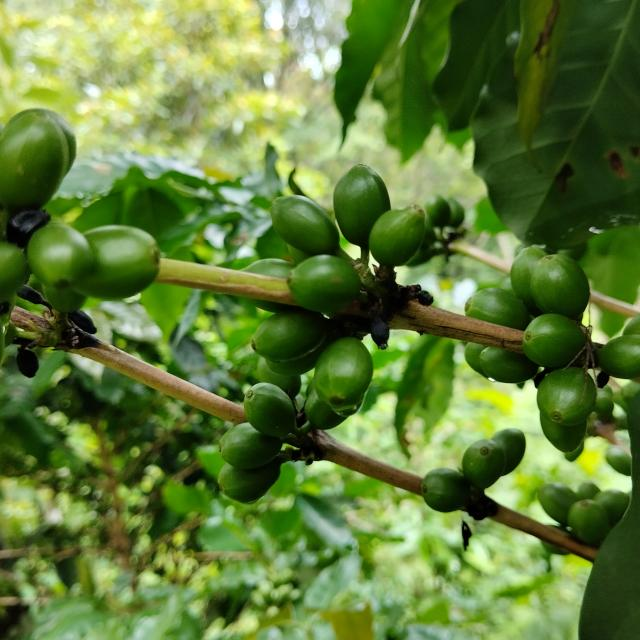Unripe: (73, 225, 159, 299), (251, 308, 329, 376), (334, 164, 391, 248), (314, 337, 374, 413), (288, 255, 361, 313), (270, 195, 339, 256), (531, 254, 591, 319), (538, 367, 598, 426), (369, 205, 425, 266), (523, 314, 586, 368), (219, 423, 282, 470), (465, 288, 532, 331), (244, 383, 296, 438), (218, 459, 281, 504), (511, 247, 548, 316), (421, 469, 471, 513), (480, 347, 539, 384), (463, 440, 506, 490), (541, 413, 588, 453), (257, 357, 301, 399), (304, 390, 346, 430), (492, 429, 527, 476), (242, 258, 295, 278), (465, 343, 489, 378), (248, 299, 290, 313)
